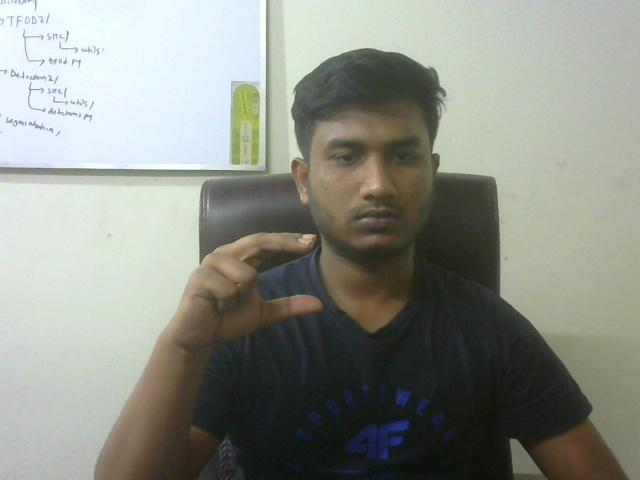No: (161, 209, 339, 375)
